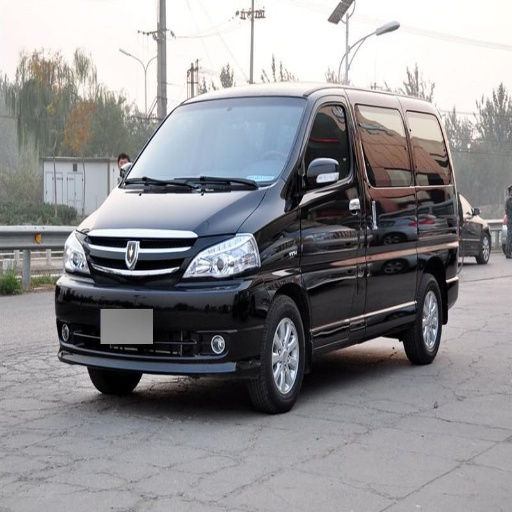front_bumper: (55, 232, 272, 375)
front_glass: (120, 100, 304, 191)
front_left_door: (297, 93, 366, 335)
trunk: (388, 140, 452, 298)
